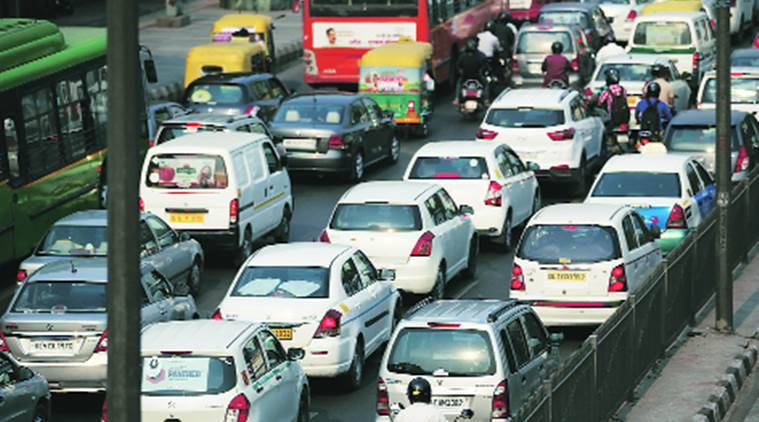bike: (598, 74, 631, 150), (457, 39, 484, 122), (636, 83, 665, 149)
bus: (2, 13, 122, 245), (302, 1, 456, 81)
car: (225, 245, 379, 374), (390, 299, 547, 422), (8, 261, 139, 387), (131, 327, 301, 422), (336, 185, 464, 299), (518, 205, 651, 313), (144, 143, 286, 239), (416, 143, 534, 239), (598, 152, 711, 244), (277, 98, 394, 184), (485, 88, 599, 176), (190, 70, 288, 137), (670, 105, 755, 178), (512, 26, 583, 92), (598, 62, 683, 117)
rickshaw: (358, 45, 433, 133), (211, 17, 273, 76)
